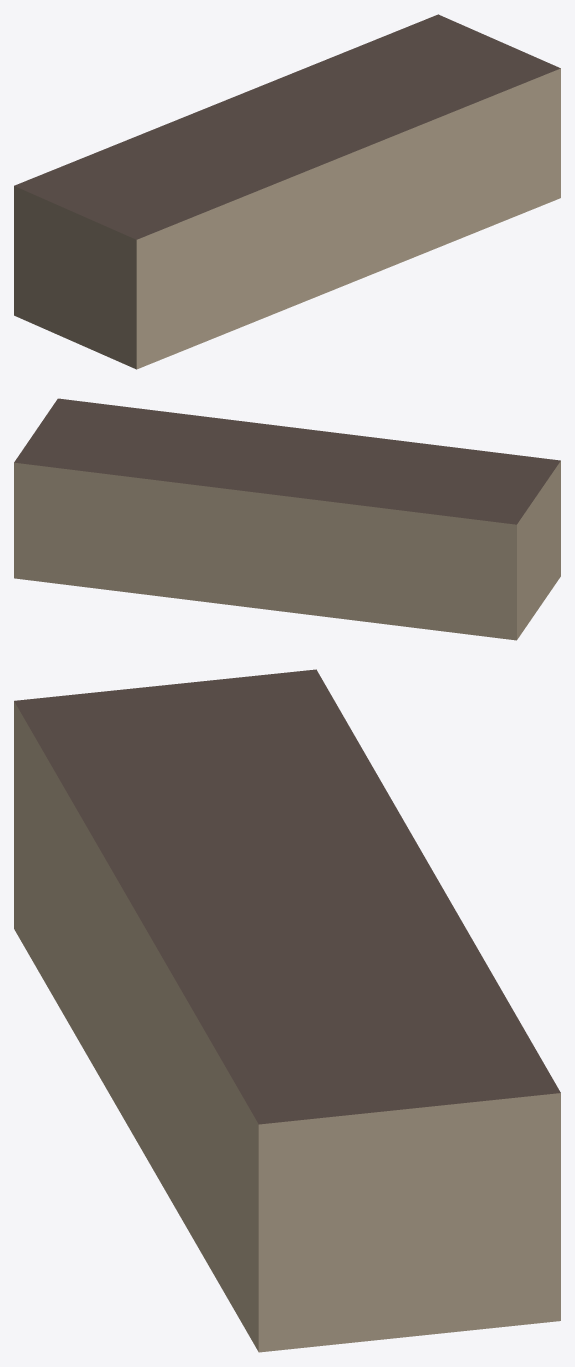
The picture shows the model from 3 angles, top to bottom: view 1: azimuth 30°, elevation 25°; view 2: azimuth 150°, elevation 25°; view 3: azimuth 270°, elevation 25°; orthographic projection. The views are drawn at different scales.
Visible parts, largest first — view 1: HP-w372180415; view 2: HP-w372180415; view 3: HP-w372180415.
Part boxes in pixels (x1,y1,x2,y2): HP-w372180415: (14, 14, 560, 369); HP-w372180415: (14, 398, 560, 640); HP-w372180415: (14, 669, 560, 1352).
Bounding box in the file's own units: 38.52 × 9 × 19.57.
